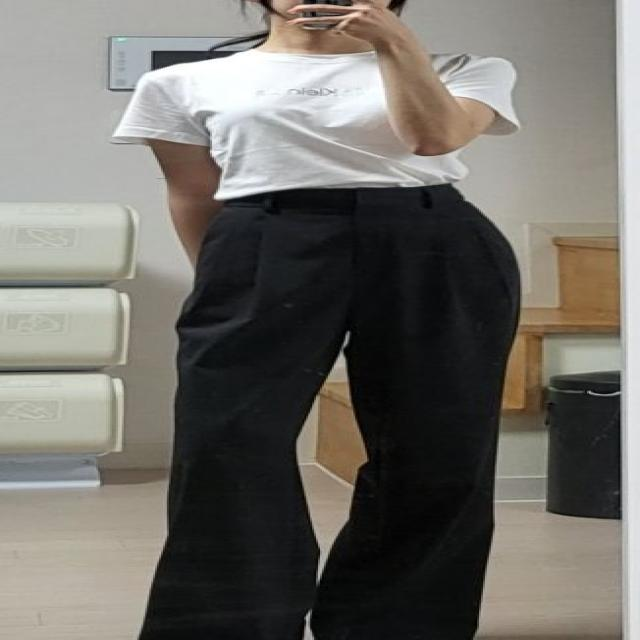shortsleeve: (113, 49, 522, 200)
slacks: (156, 184, 526, 639)
